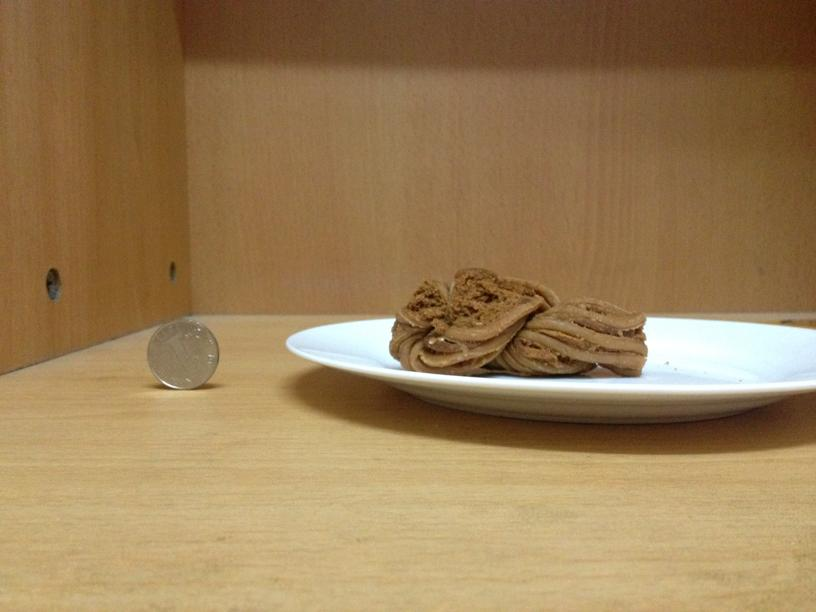coin: (149, 320, 220, 389)
fired_dough_twist: (394, 269, 648, 379)
